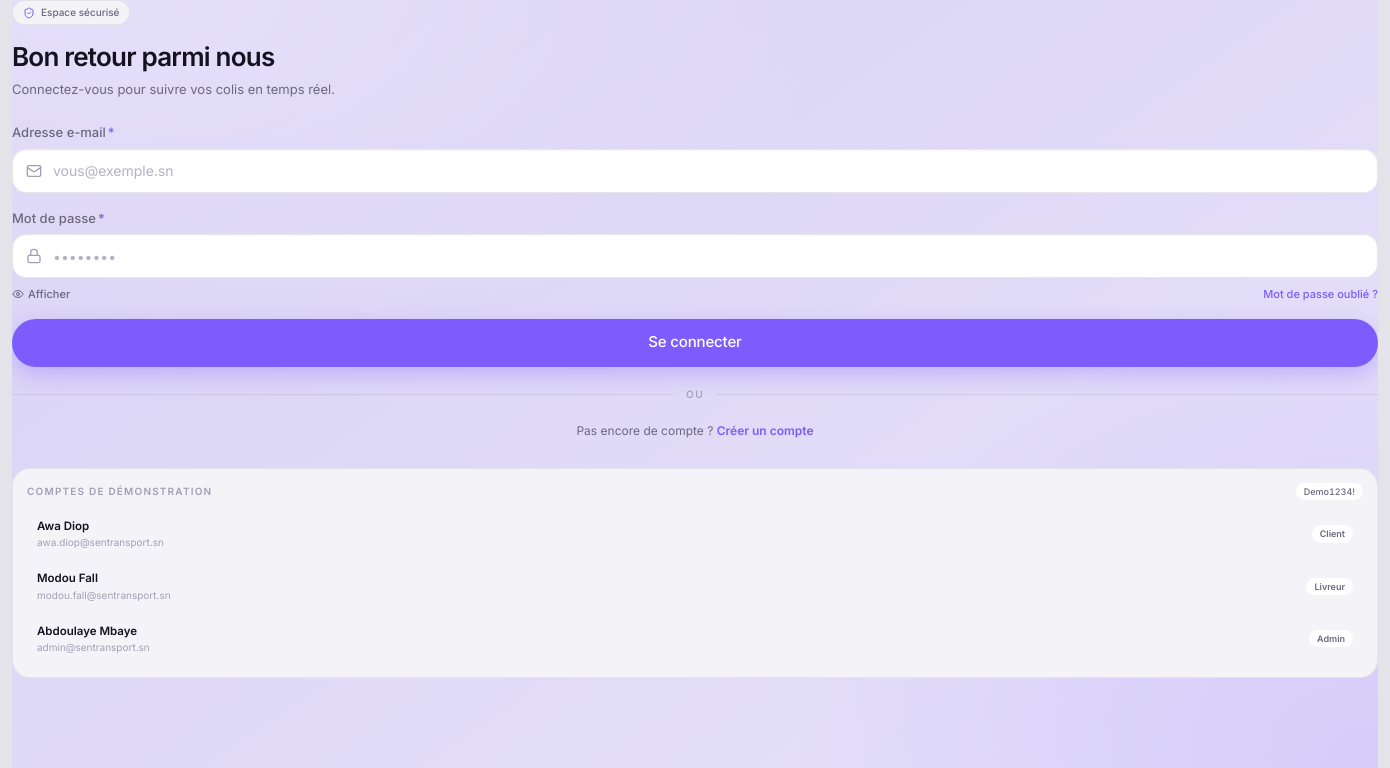
Scenario: LoginForm › affiche les messages de validation pour les champs vides
The image size is (1390, 768).
Click the button "Se connecter" at [695, 342], box [12,318,1378,366]
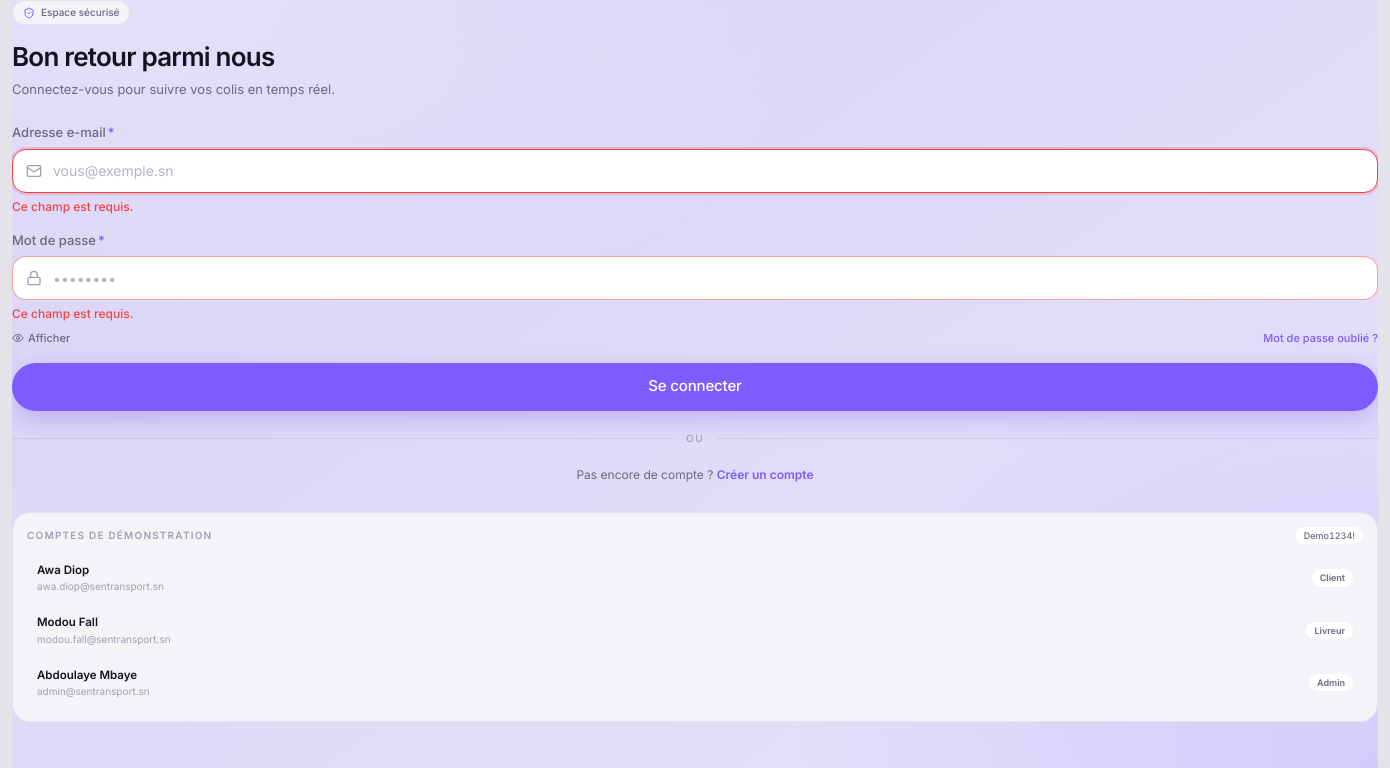
Expected: the text "Ce champ est requis." is shown 2 times, [12,198,133,214]; [12,306,133,321]
